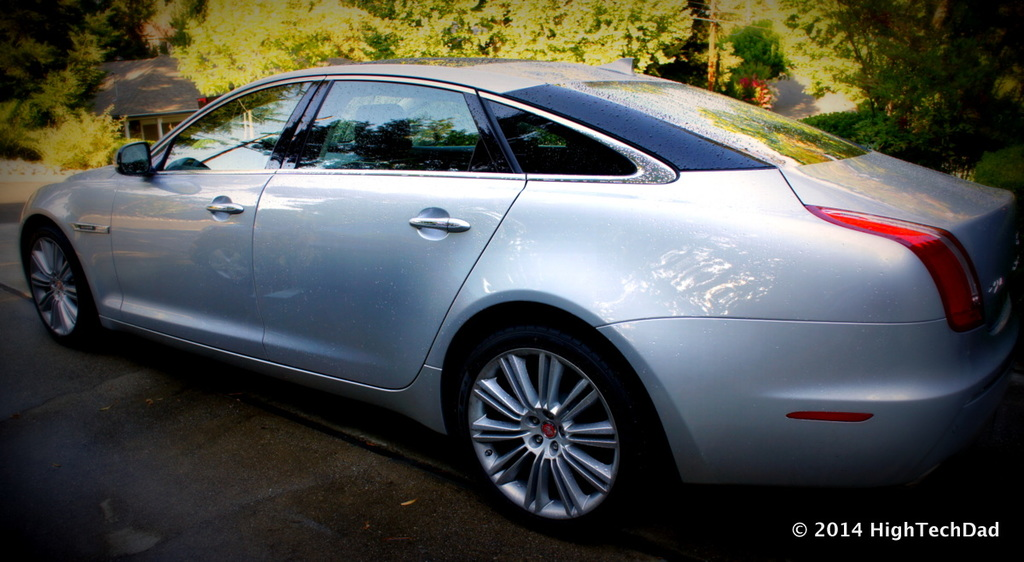mobil: (16, 59, 1024, 544)
